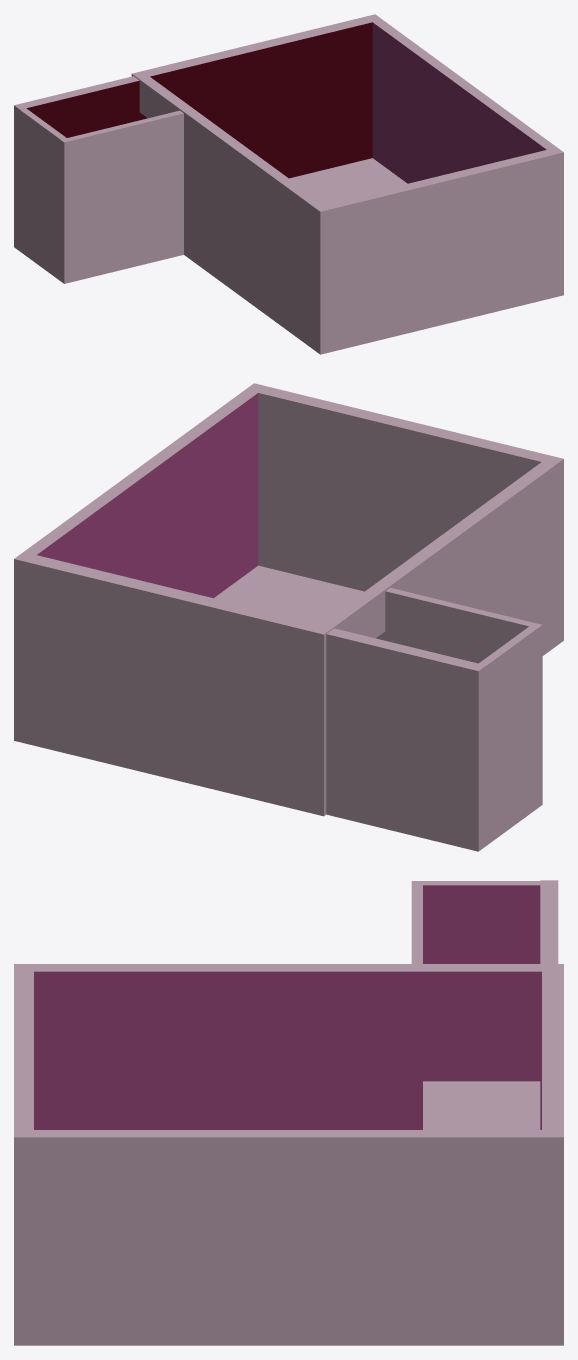
File: walls.fbx
The picture shows the model from 3 angles, top to bottom: view 1: azimuth 30°, elevation 25°; view 2: azimuth 150°, elevation 25°; view 3: azimuth 270°, elevation 25°; orthographic projection. The views are drawn at different scales.
Parts seen in each view (by area): view 1: pCube20; view 2: pCube20; view 3: pCube20.
Part boxes in pixels (<box>): pCube20: <box>14,14,563,354</box>; pCube20: <box>14,383,563,851</box>; pCube20: <box>14,880,563,1345</box>.
Size of the model in its own units: 30.43 by 11.44 by 27.39.
